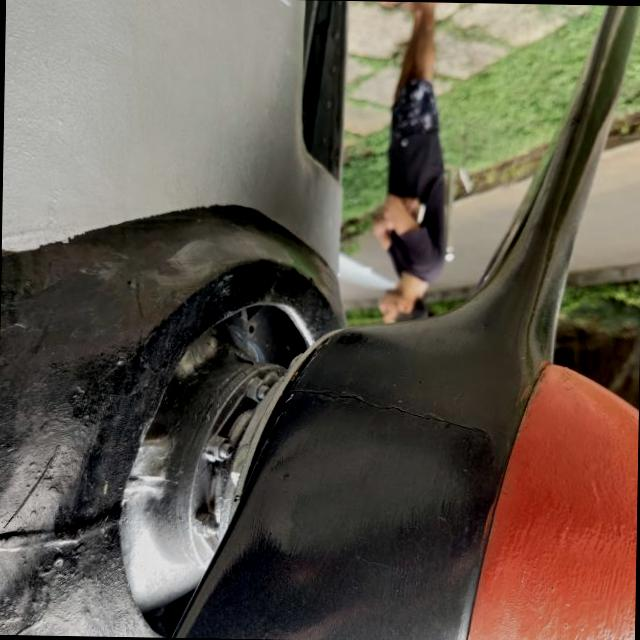crack: (282, 371, 508, 466)
